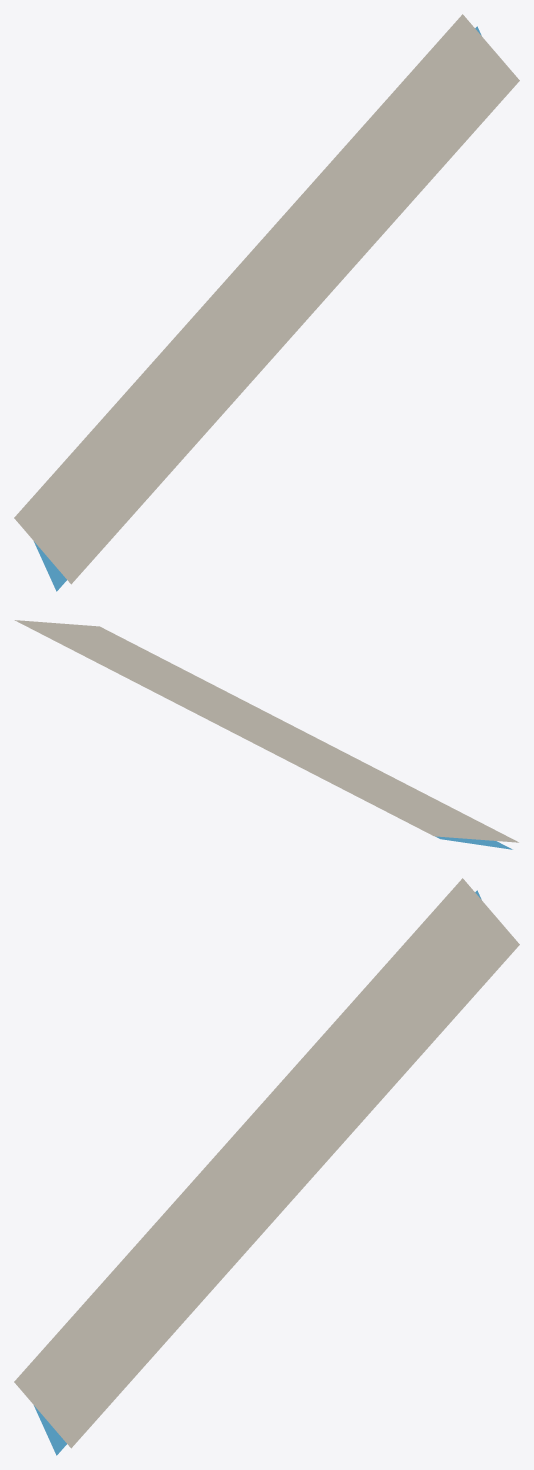
The picture shows the model from 3 angles, top to bottom: view 1: azimuth 90°, elevation 25°; view 2: azimuth 150°, elevation 25°; view 3: azimuth 270°, elevation 25°; orthographic projection. The views are drawn at different scales.
Parts seen in each view (by area): view 1: estructura_terreno; view 2: estructura_terreno, estructura_agua; view 3: estructura_terreno.
Part boxes in pixels (x1,y1,x2,y2): estructura_terreno: (14, 14, 519, 584); estructura_terreno: (14, 620, 518, 842); estructura_agua: (435, 836, 512, 849); estructura_terreno: (14, 878, 519, 1448).
Size of the model in its own units: 51.97 by 0.41 by 19.48.
